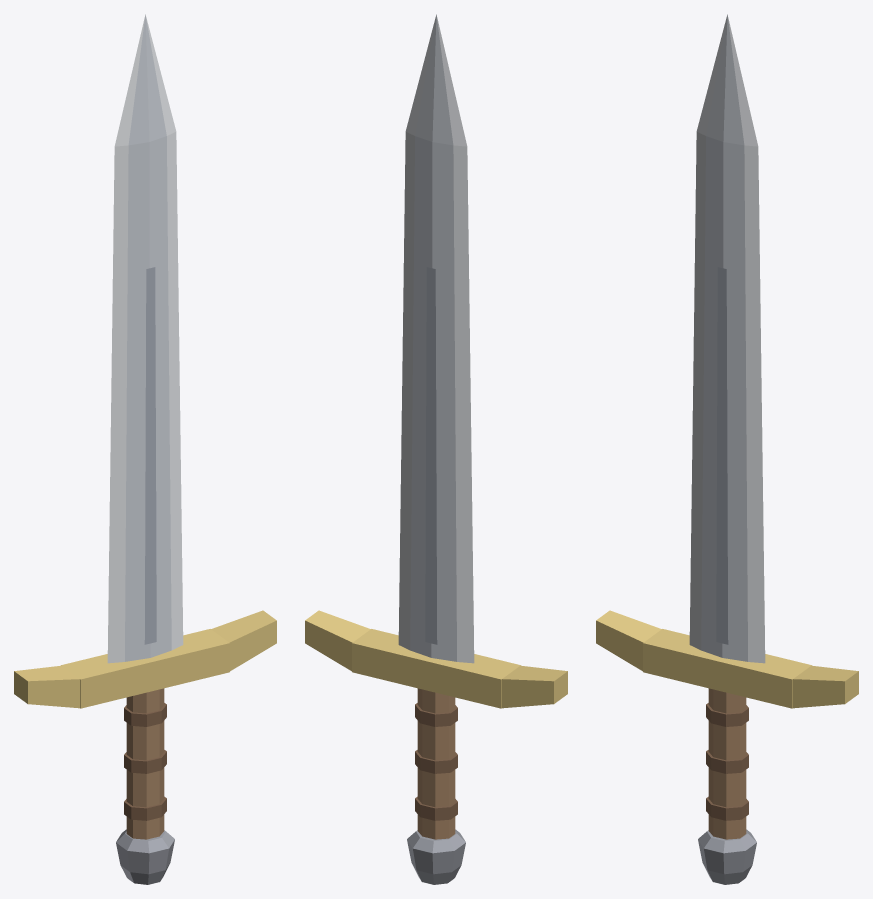
Rendered from iron_broadsword.gltf.
3 views of the same model, side by side, from view 1: azimuth 30°, elevation 25°; view 2: azimuth 150°, elevation 25°; view 3: azimuth 330°, elevation 25° (orthographic).
Visible parts, largest first — view 1: iron_broadsword; view 2: iron_broadsword; view 3: iron_broadsword.
Boxes of the visible parts, x1,y1,x2,y2 form: iron_broadsword: [14, 14, 276, 884]; iron_broadsword: [305, 14, 567, 884]; iron_broadsword: [596, 14, 858, 884].
Size of the model in its own units: 0.1875 by 0.621 by 0.036.
